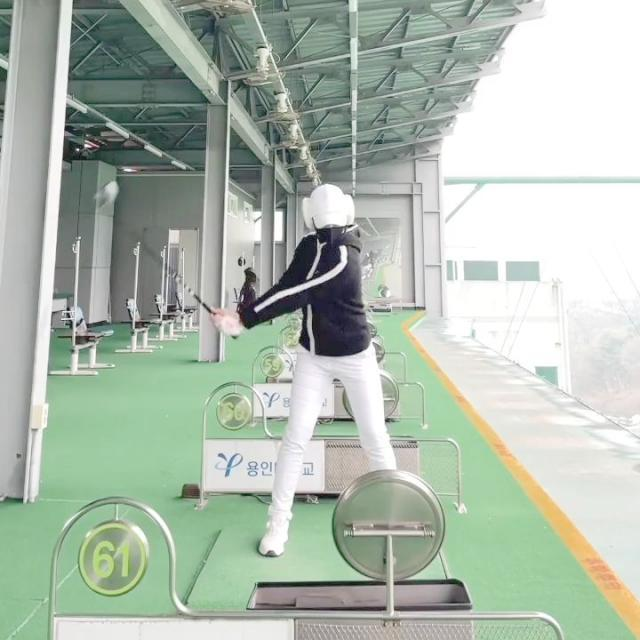ClubHandle: (94, 181, 238, 341), (95, 181, 118, 209)
